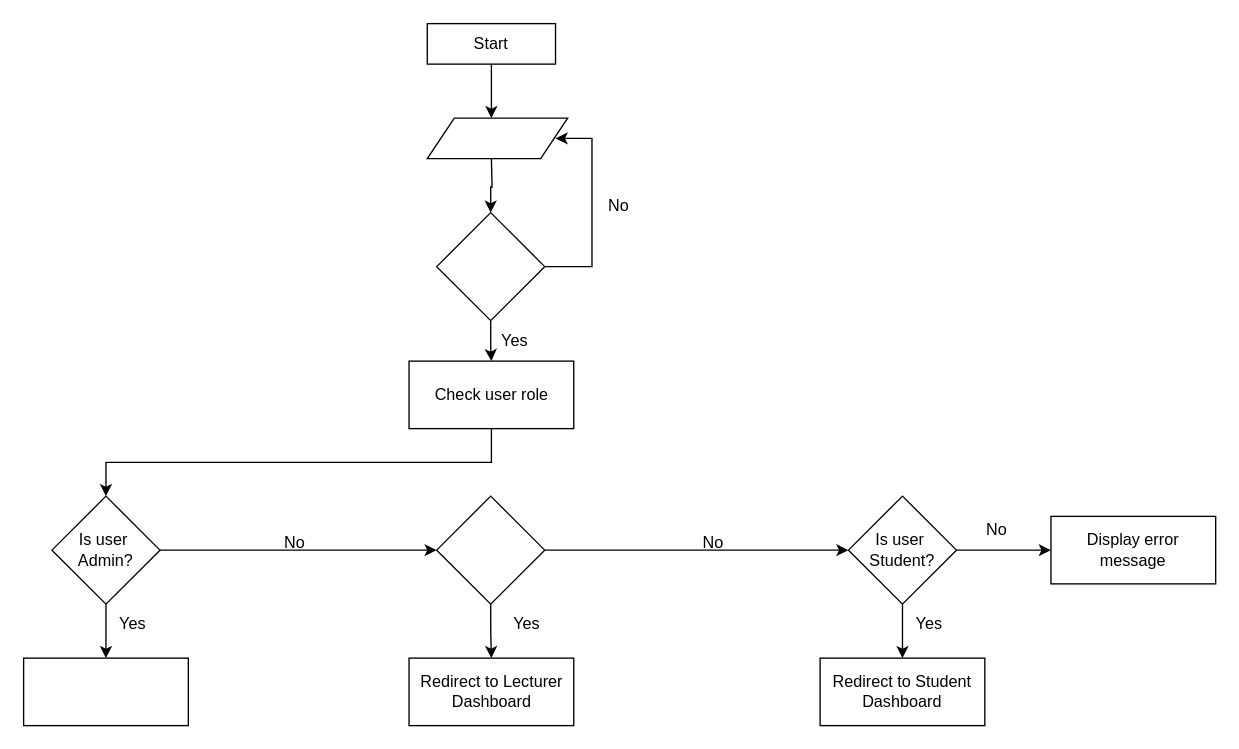
The diagram is 1239 pixels wide and 749 high, and some of its shapes have lost their labels. Here are the shapes that lost their labels. From the top down, the centre of each, then its label:
(x=497, y=138): Login
(x=490, y=266): Are login info correct?
(x=490, y=549): Is user Lecturer?
(x=105, y=691): Redirect to Admin Dashboard
